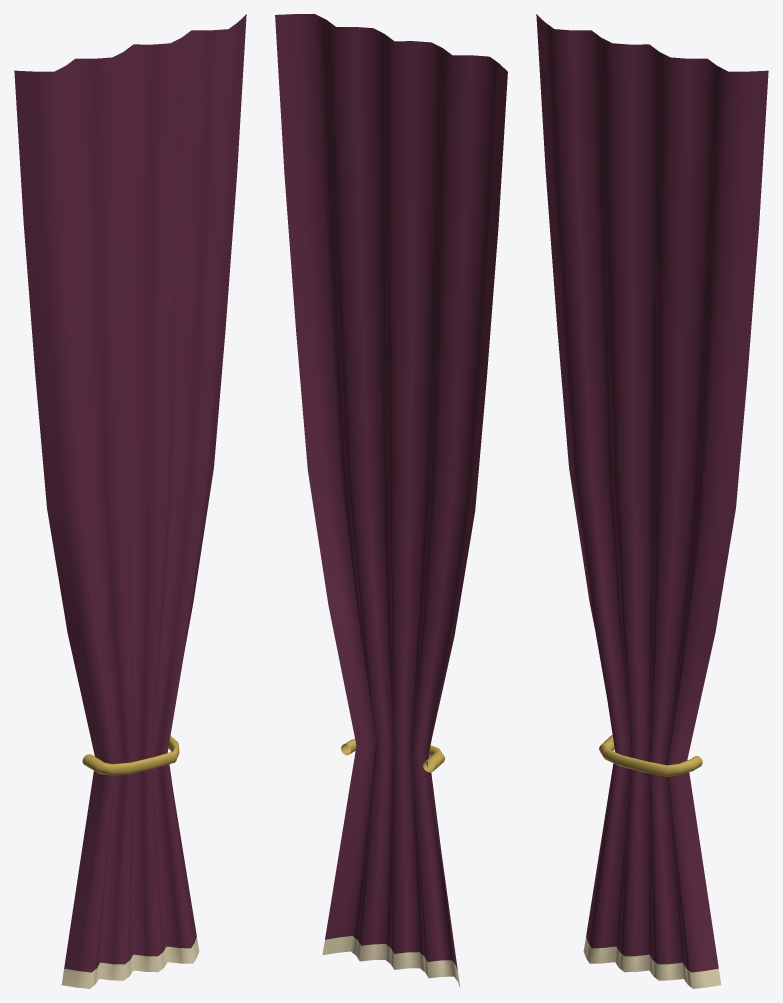
File: Cortina1.fbx
3 renders of one model, left to right at view 1: azimuth 30°, elevation 25°; view 2: azimuth 150°, elevation 25°; view 3: azimuth 330°, elevation 25°, orthographic.
Visible parts, largest first — view 1: Cortina1; view 2: Cortina1; view 3: Cortina1.
Part boxes in pixels (bbox=[...]): Cortina1: bbox=[14, 14, 246, 988]; Cortina1: bbox=[275, 14, 507, 987]; Cortina1: bbox=[536, 14, 768, 988].
Bounding box in the file's own units: 196 × 747 × 31.17.
